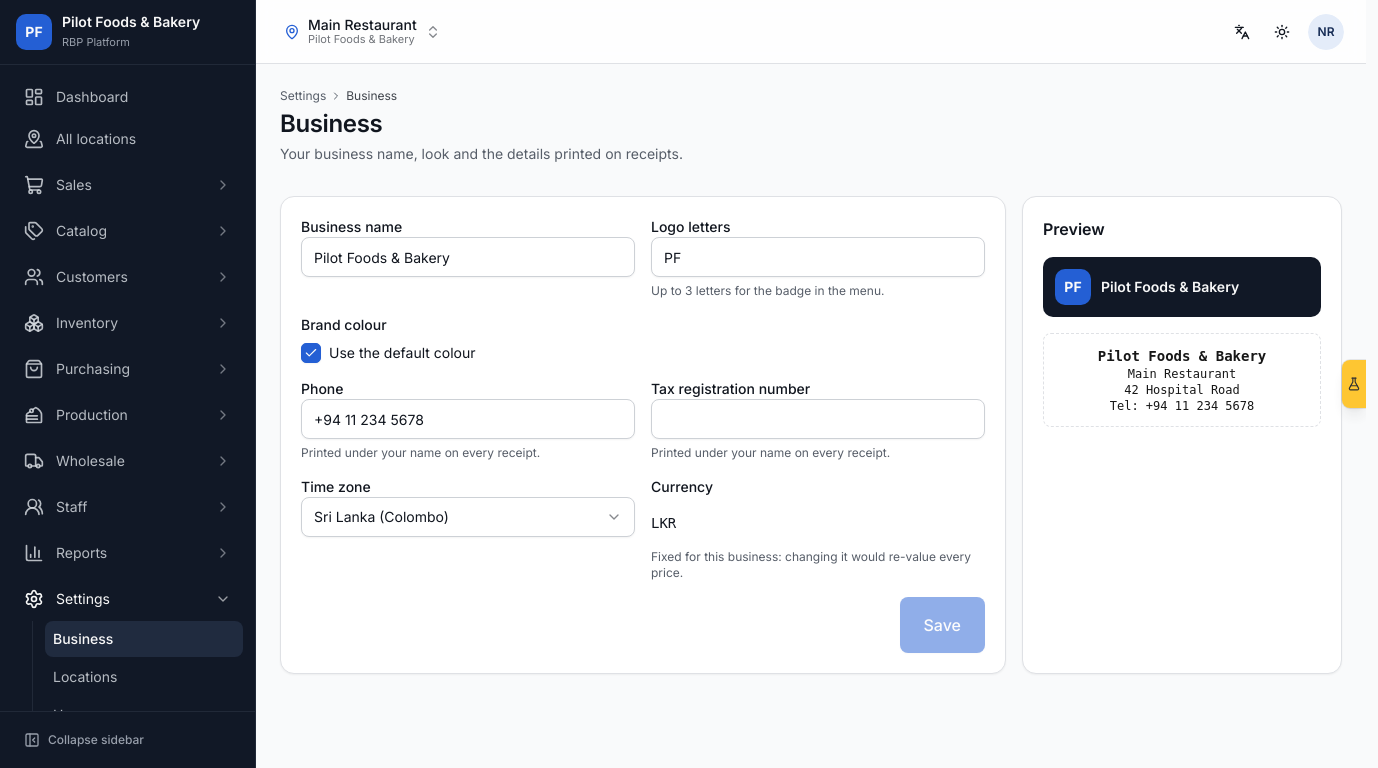
Test: SET-001 business › renames the business and shows it in the shell
Replace the text in the field labelled "Business name" with "Pilot Foods" at (468, 257), box [301,237,635,277]
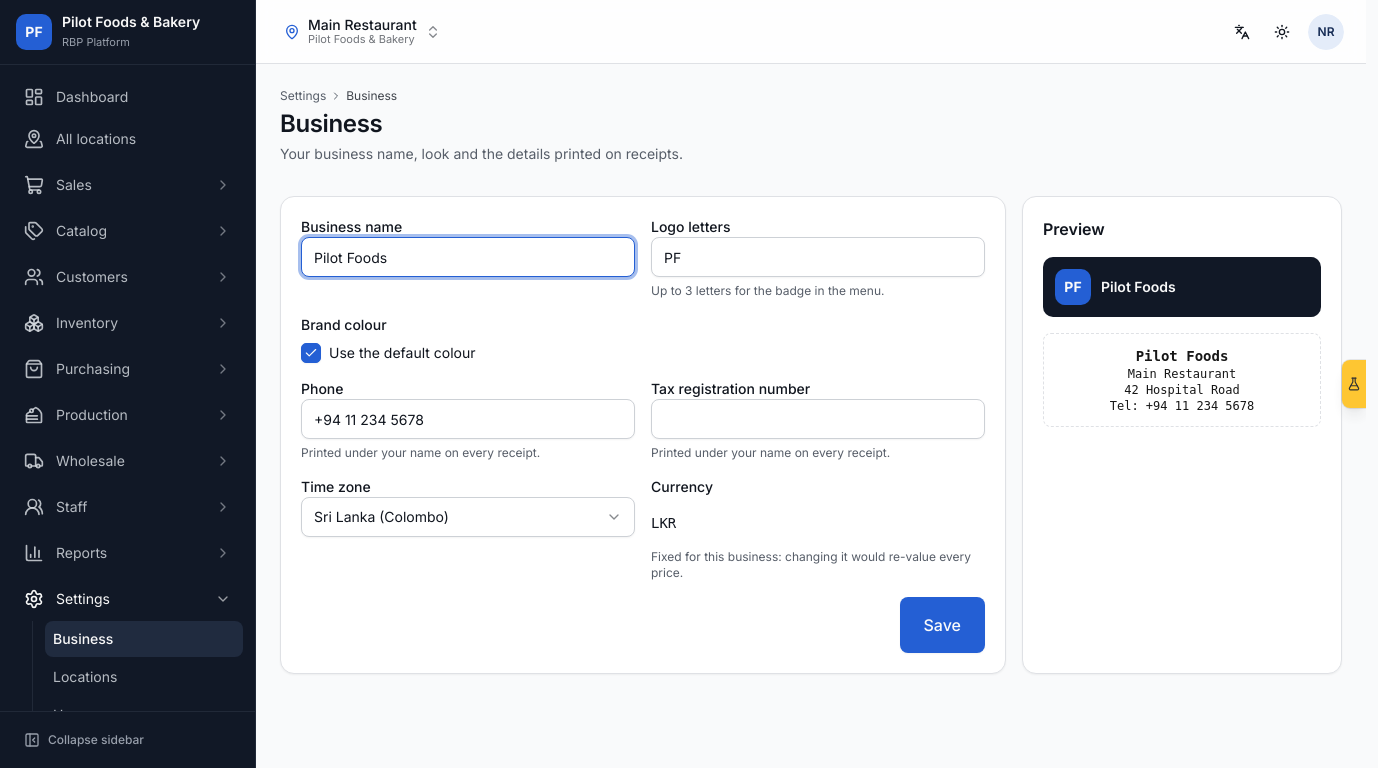
Type "VAT-1234" into the field labelled "Tax registration number" at (818, 419), box [651,399,985,439]
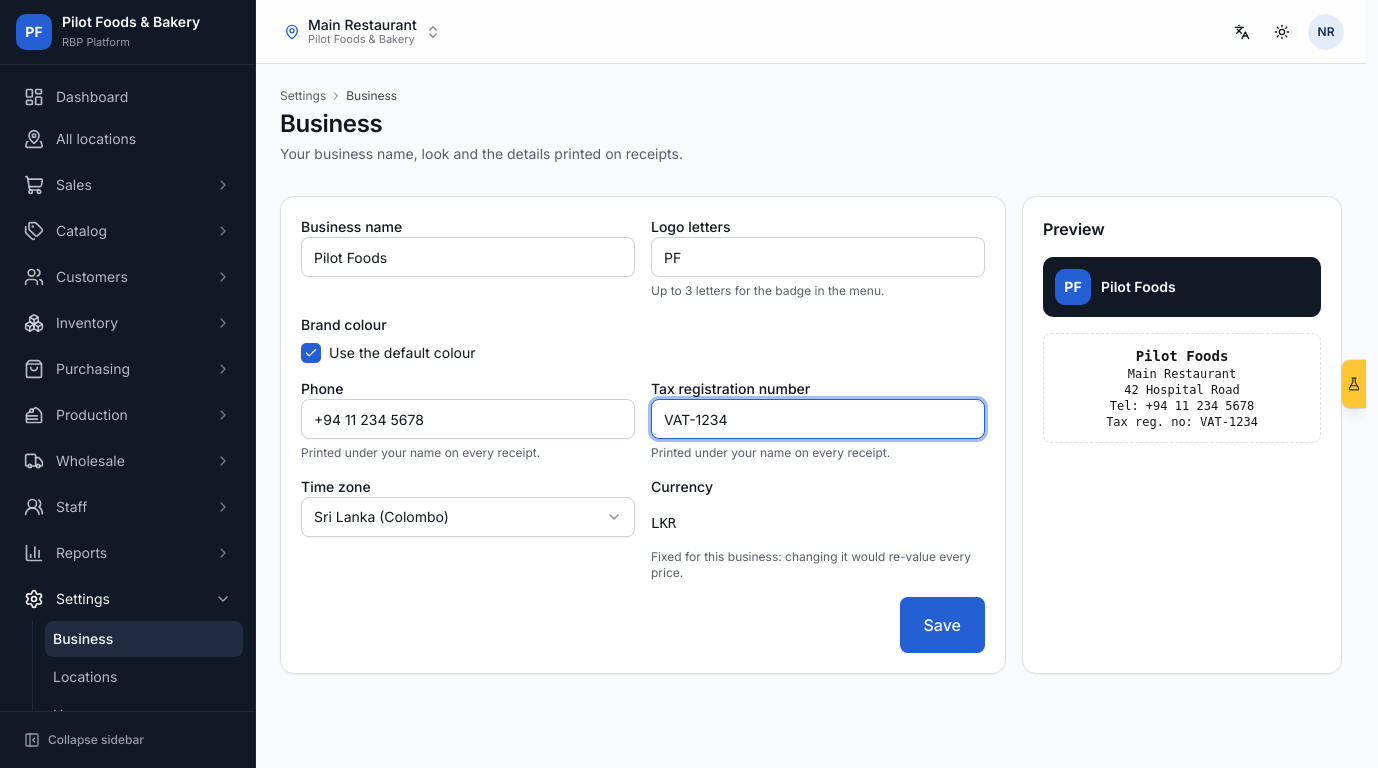
Expected: the text "Tax reg. no: VAT-1234" is shown, [1106,415,1258,429]
Click the button "Save" at (942, 625), box [900,597,985,653]
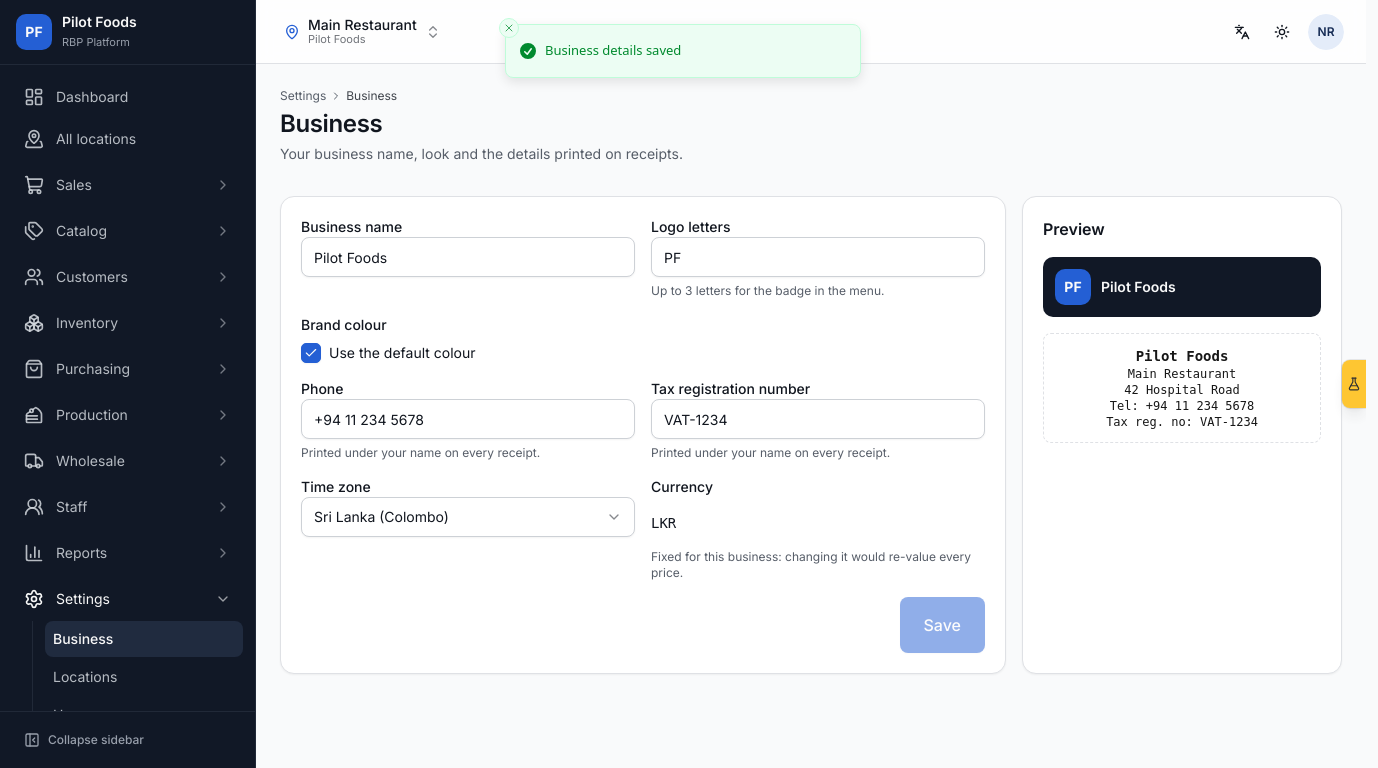
Expected: the 1st text "Pilot Foods" is shown, [62,12,137,32]
Expected: the text "Business details saved" is shown, [545,41,681,60]
